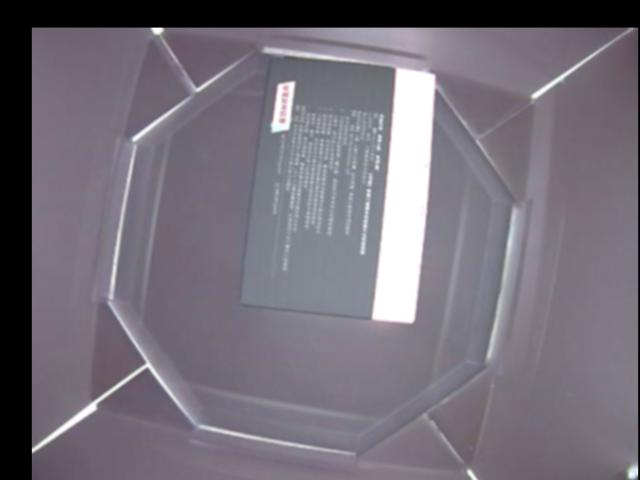Medicine: (236, 59, 436, 325)
